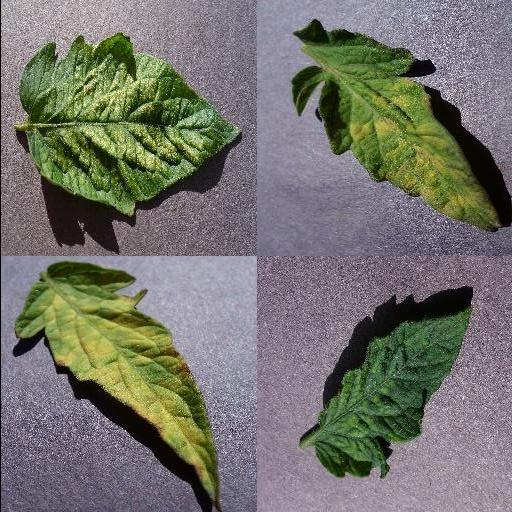Leaf Mold: (14, 260, 218, 502), (286, 18, 504, 232)
Mosaic Virus: (312, 306, 474, 482)
Spider Mites: (16, 34, 240, 216)
